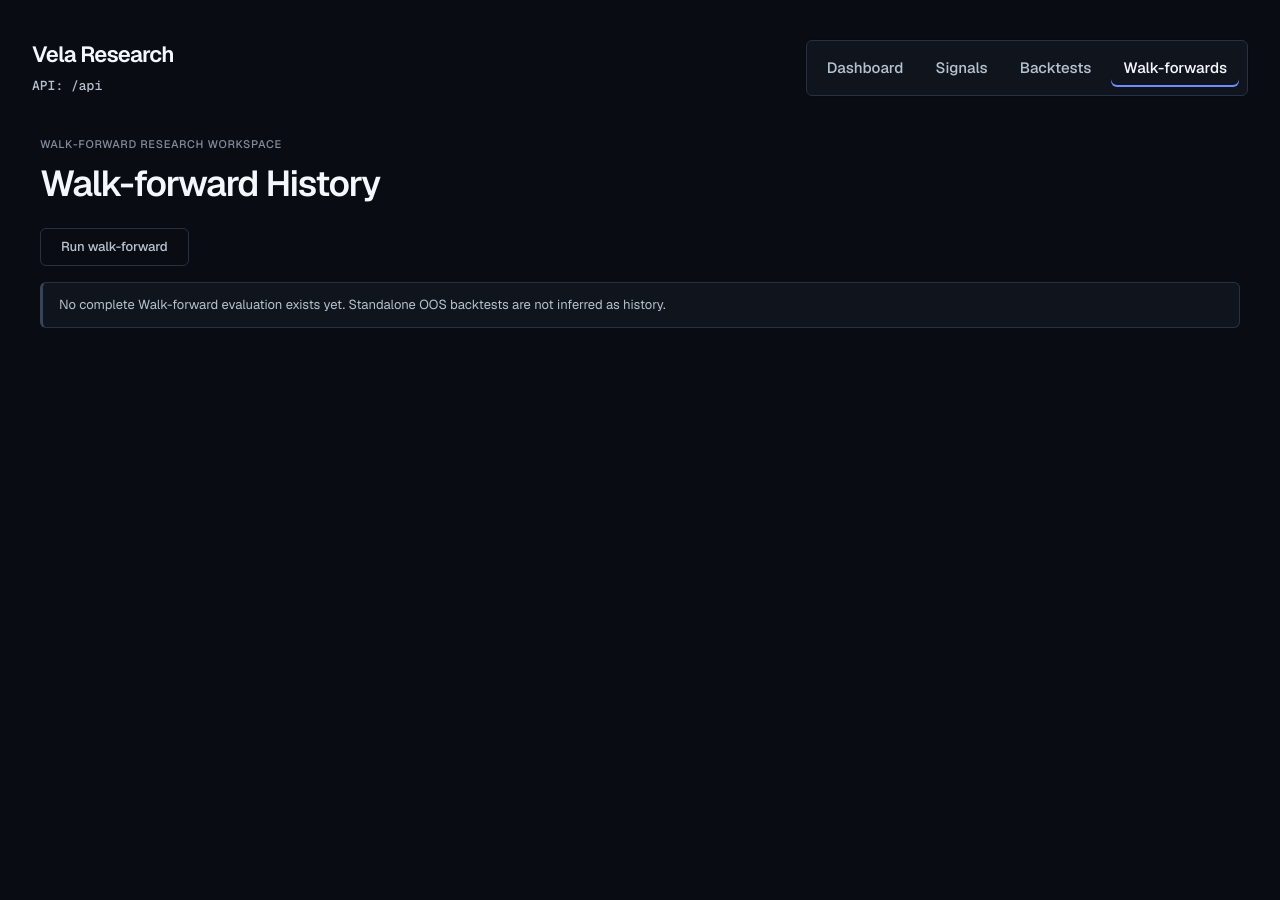
Test case: loads the Walk-forward route directly and returns to it through active navigation
Expected: the heading "Walk-forward History" is shown, [40,160,380,207]
Expected: the text "No complete Walk-forward evaluation" is shown, [59,296,666,313]
Click the link "Dashboard".
click(865, 68)  # box [827,58,903,77]
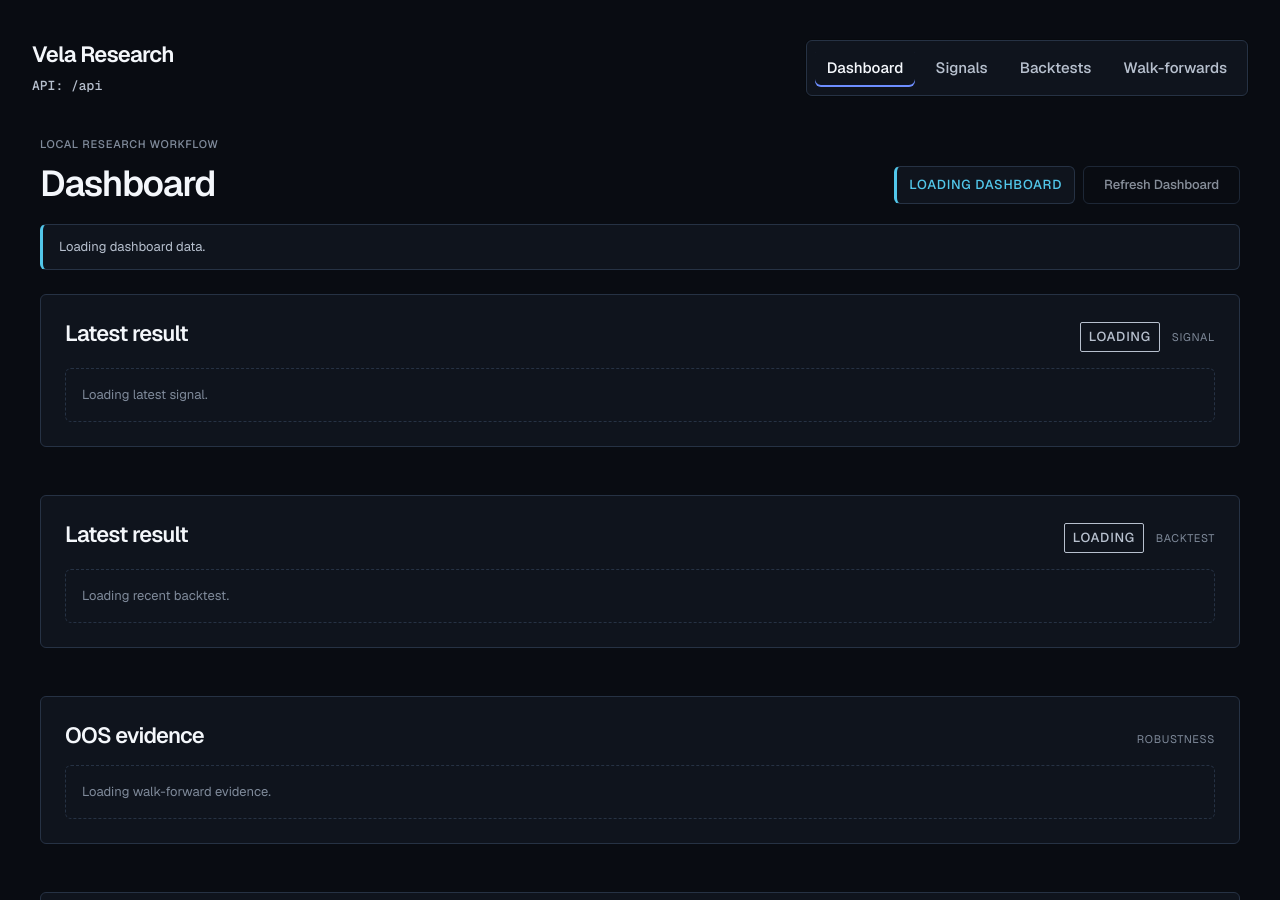
Click the link "Walk-forwards".
click(1175, 68)  # box [1123,58,1227,77]
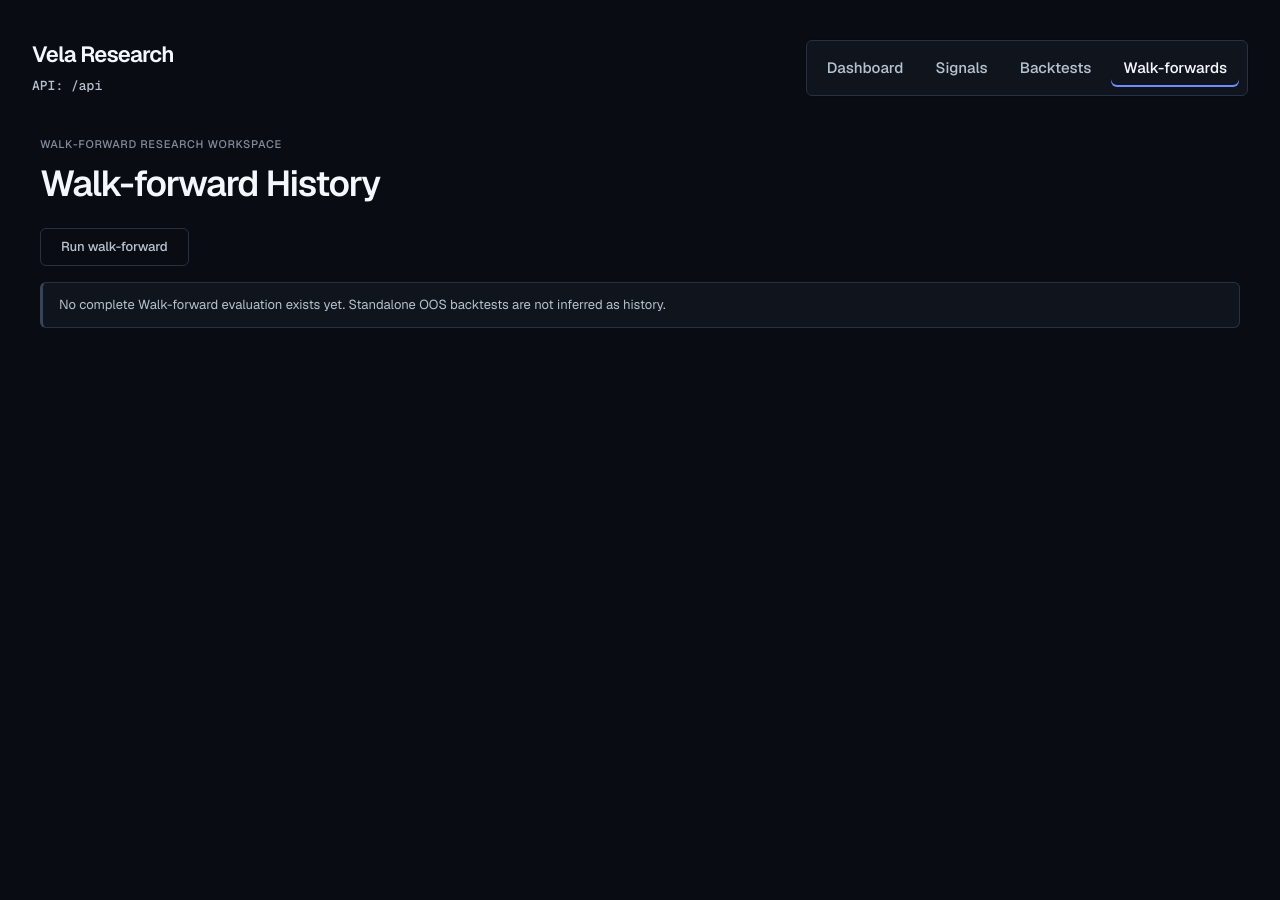
Result: the heading "Walk-forward History" is shown at [40,160,380,207]
